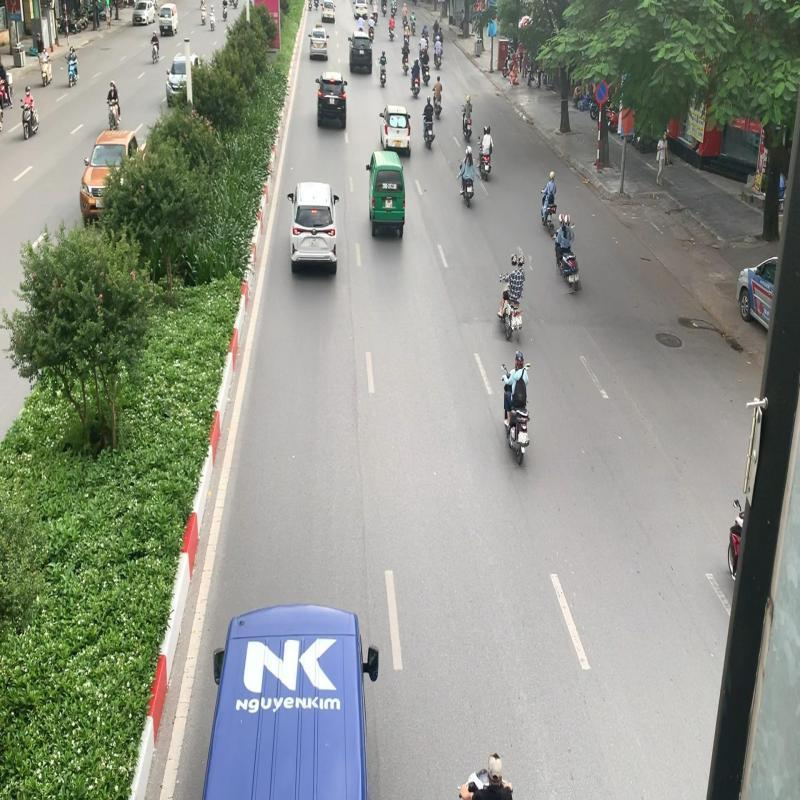helmet: (514, 350, 524, 369), (511, 254, 517, 266), (564, 214, 570, 226)
licenseplate: (518, 431, 527, 444), (515, 316, 522, 325), (569, 276, 576, 284)
motorcyclist: (500, 350, 532, 467), (494, 252, 528, 343), (552, 213, 580, 294)
